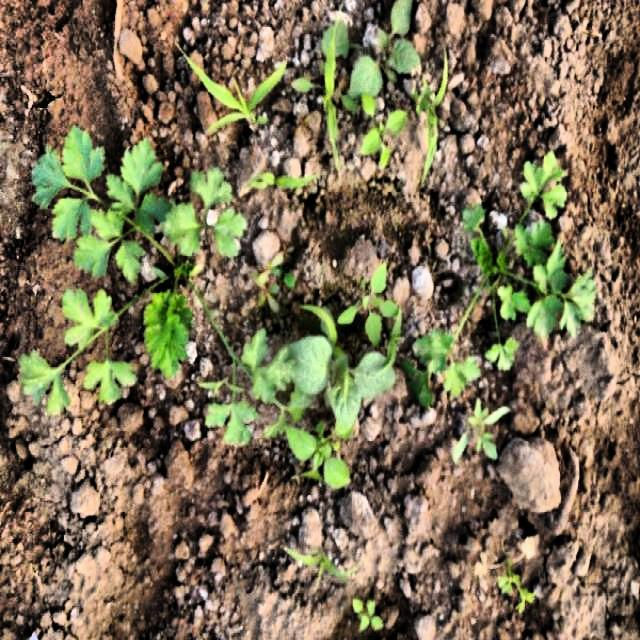Weeds: (342, 0, 427, 108)
undefined: (15, 125, 285, 451), (414, 149, 600, 397)
